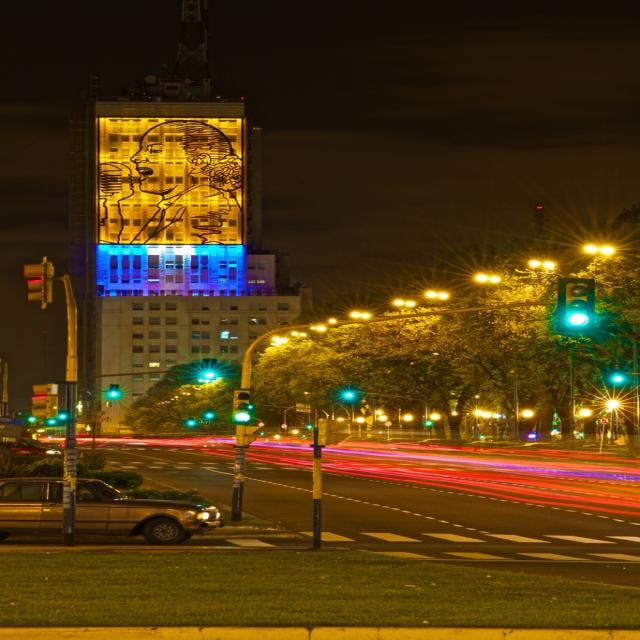off traffic light: (20, 255, 55, 308), (29, 380, 61, 429)
traffic light: (553, 274, 591, 332), (234, 386, 250, 425)
